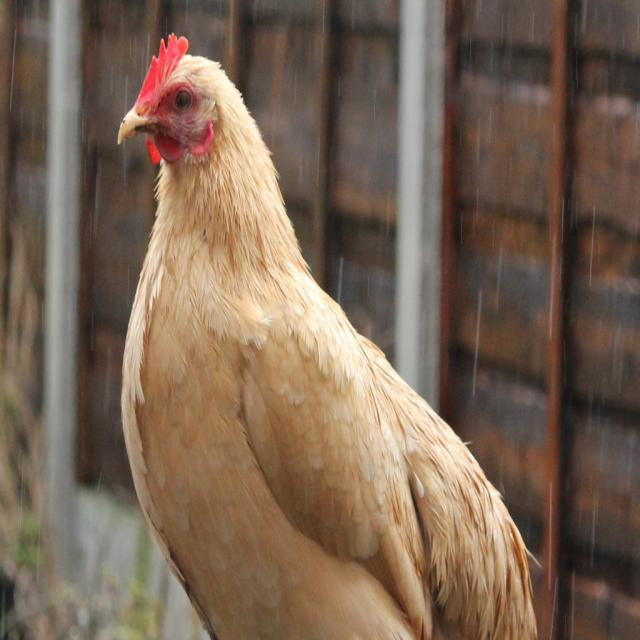Chicken: (117, 31, 543, 640)
